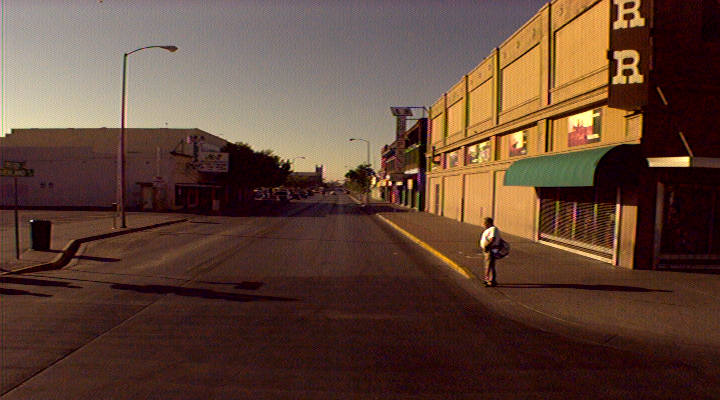Ramp: (458, 270, 720, 350)
